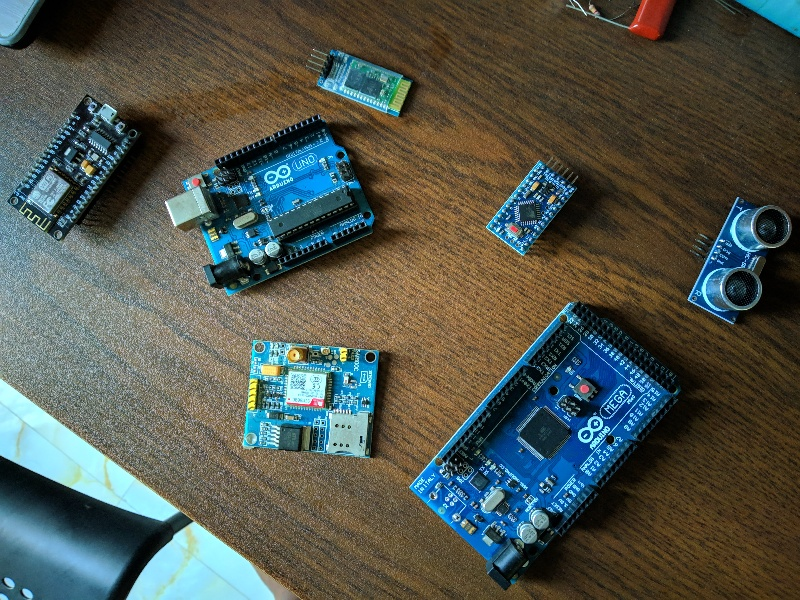Arduino Mega 2560: (404, 298, 686, 588)
Arduino Pro Mini: (481, 158, 579, 258)
Arduino UNO: (163, 112, 381, 299)
HC-05: (311, 47, 426, 118)
NodeMCU: (3, 92, 143, 246)
SIM800: (238, 332, 389, 467)
Sonar Sensor: (683, 190, 793, 331)
